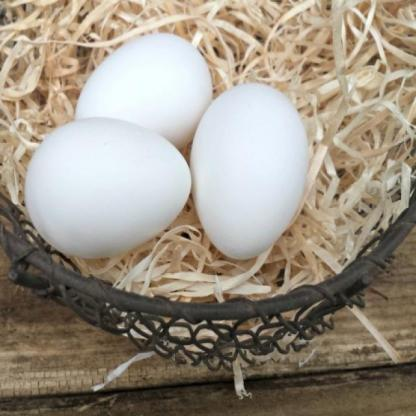egg: (20, 108, 202, 277), (183, 63, 320, 270), (44, 20, 218, 148)
